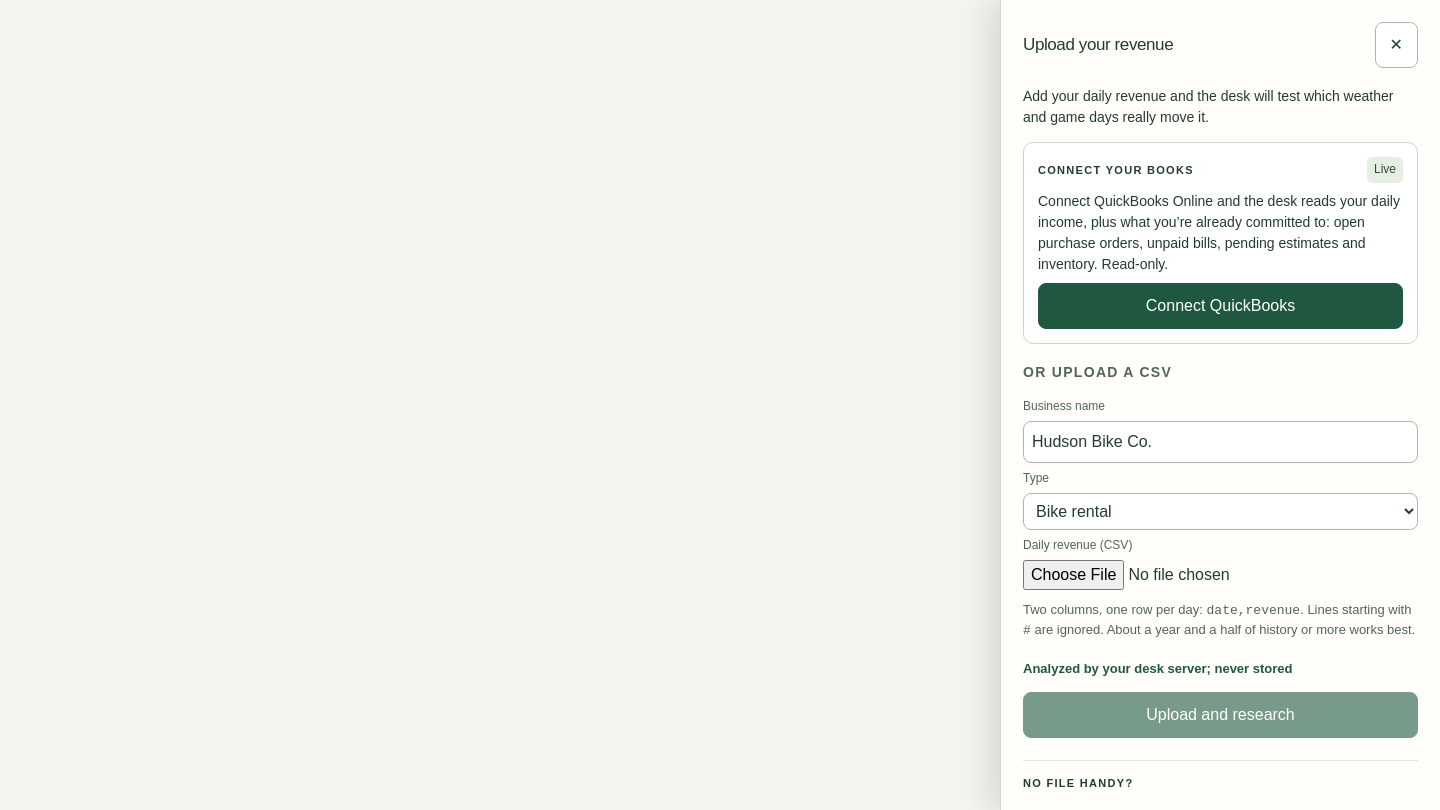
Scenario: QuickBooks connect (upload drawer) › live mode sends the browser to Intuit's authorize_url
Expected: the text with test id "qbo-mode" reads "Live", [1374,162,1396,176]
What coordinates should you click on to do the following:
click the button "Connect QuickBooks"
I would click on:
 (1220, 306)
Its box is [1038,283,1403,329].
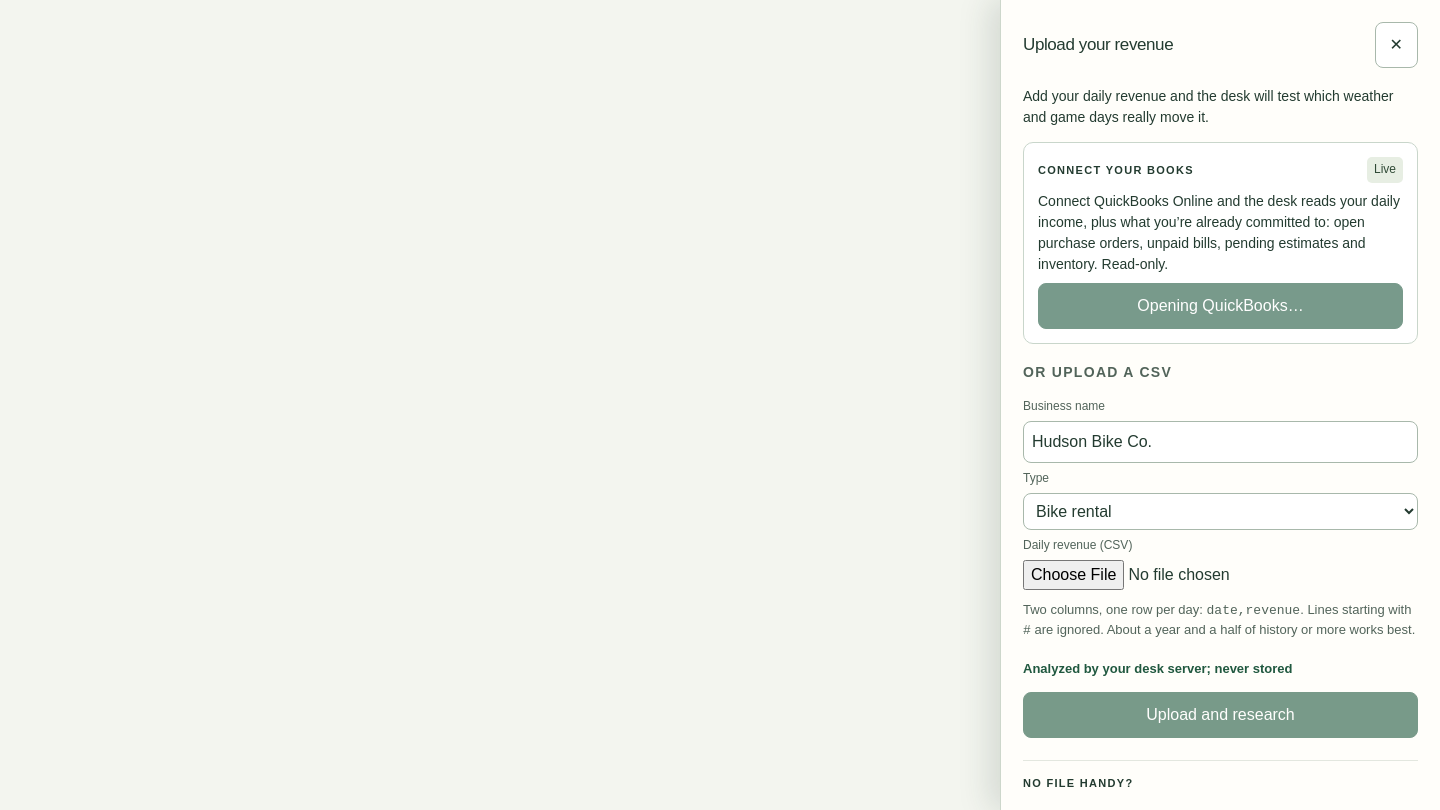
Result: the button "Opening QuickBooks…" is disabled at [1038,283,1403,329]
